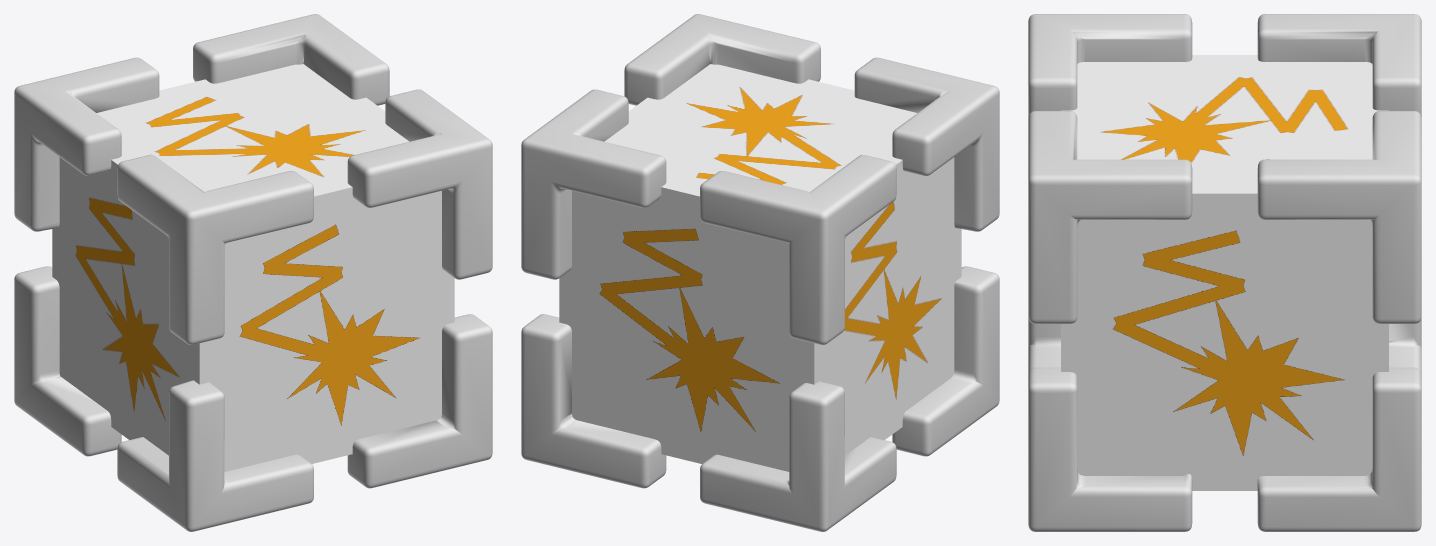
File: ReflectShellBox.FBX
The picture shows the model from 3 angles, left to right: view 1: azimuth 30°, elevation 25°; view 2: azimuth 150°, elevation 25°; view 3: azimuth 270°, elevation 25°; orthographic projection. The views are drawn at different scales.
Visible parts, largest first — view 1: MainBox, Corner005, Corner008, Corner001, Corner011, Corner007, Corner006, Corner010; view 2: MainBox, Corner011, Corner006, Corner010, Corner005, Corner002, Corner008, Corner001; view 3: MainBox, Corner001, Corner010, Corner007, Corner002, Corner005, Corner011, Corner006, Corner008.
Part boxes in pixels (x1=…): MainBox: x1=52, y1=64, x2=454, y2=471; Corner005: x1=117, y1=154, x2=313, y2=344; Corner008: x1=117, y1=380, x2=313, y2=531; Corner001: x1=347, y1=89, x2=492, y2=279; Corner011: x1=14, y1=57, x2=159, y2=231; Corner007: x1=347, y1=314, x2=492, y2=488; Corner006: x1=14, y1=266, x2=121, y2=456; Corner010: x1=193, y1=14, x2=389, y2=105; MainBox: x1=559, y1=64, x2=961, y2=471; Corner011: x1=700, y1=154, x2=896, y2=344; Corner006: x1=700, y1=381, x2=896, y2=531; Corner010: x1=521, y1=89, x2=666, y2=279; Corner005: x1=854, y1=57, x2=999, y2=231; Corner002: x1=521, y1=314, x2=666, y2=488; Corner008: x1=892, y1=266, x2=999, y2=456; Corner001: x1=624, y1=14, x2=820, y2=105; MainBox: x1=1061, y1=55, x2=1388, y2=490; Corner001: x1=1028, y1=111, x2=1192, y2=323; Corner010: x1=1257, y1=111, x2=1421, y2=323; Corner007: x1=1028, y1=367, x2=1192, y2=531; Corner002: x1=1257, y1=367, x2=1421, y2=531; Corner005: x1=1028, y1=14, x2=1192, y2=117; Corner011: x1=1257, y1=14, x2=1421, y2=117; Corner006: x1=1389, y1=317, x2=1421, y2=373; Corner008: x1=1028, y1=317, x2=1060, y2=373.
Bounding box in the file's own units: 120 × 120 × 120.
1 material, 1 textured.
